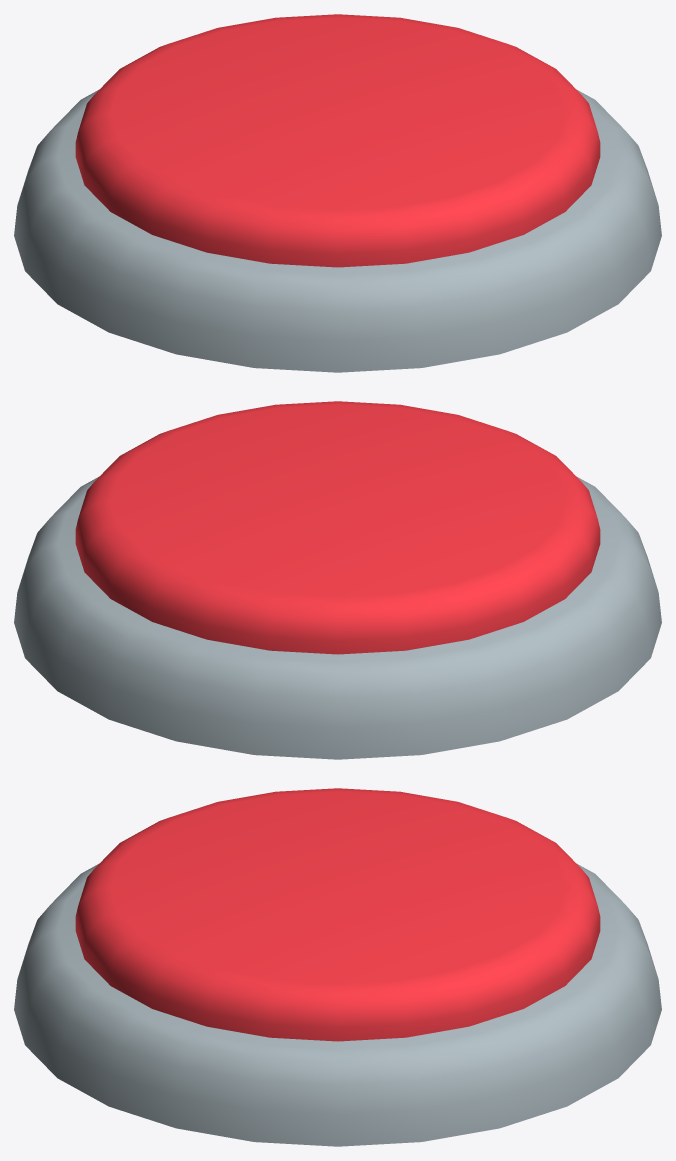
The model's file is button_teamRed.glb.
3 views of the same model, one above another, from view 1: azimuth 30°, elevation 25°; view 2: azimuth 150°, elevation 25°; view 3: azimuth 270°, elevation 25° (orthographic).
Visible parts, largest first — view 1: button_teamRed; view 2: button_teamRed; view 3: button_teamRed.
Part boxes in pixels (x1,y1,x2,y2): button_teamRed: [14, 14, 661, 372]; button_teamRed: [14, 401, 661, 759]; button_teamRed: [14, 788, 661, 1146].
Bounding box in the file's own units: 0.5718 × 0.1188 × 0.5718.
